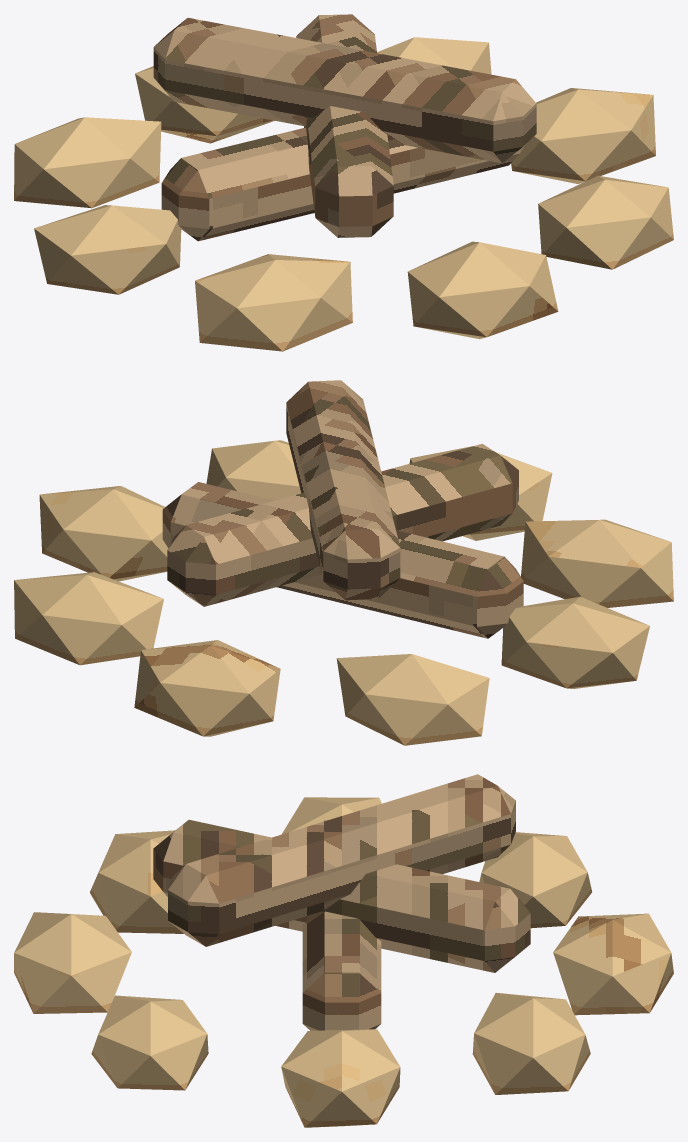
File: enfeite_fogueira.glb
The picture shows the model from 3 angles, top to bottom: view 1: azimuth 30°, elevation 25°; view 2: azimuth 150°, elevation 25°; view 3: azimuth 270°, elevation 25°; orthographic projection. The views are drawn at different scales.
Visible parts, largest first — view 1: deserto_enfeite_fogueira; view 2: deserto_enfeite_fogueira; view 3: deserto_enfeite_fogueira.
Part boxes in pixels (x1,y1,x2,y2): deserto_enfeite_fogueira: (14,14,673,351); deserto_enfeite_fogueira: (14,380,673,745); deserto_enfeite_fogueira: (14,774,673,1127).
Bounding box in the file's own units: 0.624 × 0.1841 × 0.5853.
2 materials, 2 textured.
